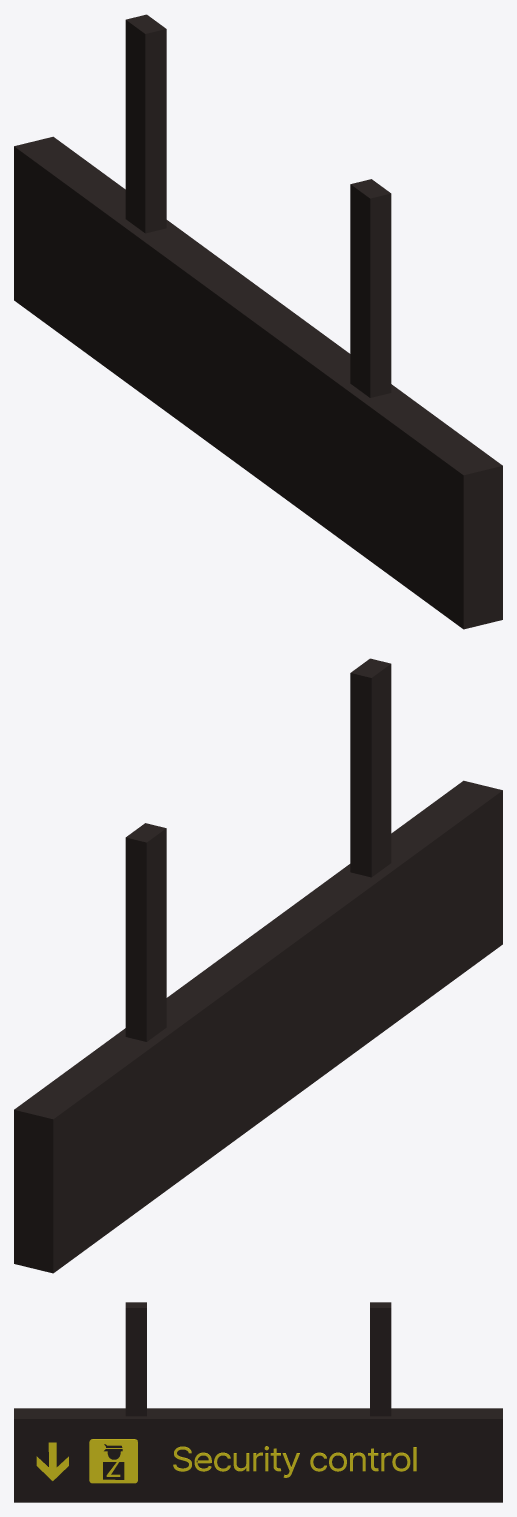
Rendered from security sign.fbx.
The picture shows the model from 3 angles, top to bottom: view 1: azimuth 30°, elevation 25°; view 2: azimuth 150°, elevation 25°; view 3: azimuth 270°, elevation 25°; orthographic projection. The views are drawn at different scales.
Parts seen in each view (by area): view 1: Cube.001; view 2: Cube.001; view 3: Cube.001, Security control, Square, arrow.001, guard.
Boxes of the visible parts, box(x1,y1,x2,y2) form: Cube.001: box(14, 14, 502, 629); Cube.001: box(14, 658, 502, 1273); Cube.001: box(14, 1302, 502, 1502); Security control: box(173, 1446, 416, 1477); Square: box(89, 1439, 137, 1483); arrow.001: box(36, 1442, 68, 1480); guard: box(103, 1444, 124, 1479).
Size of the model in its own units: 2.47 by 20.19 by 46.55.
